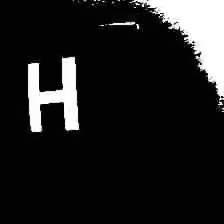LTR_H: (14, 50, 82, 136)
